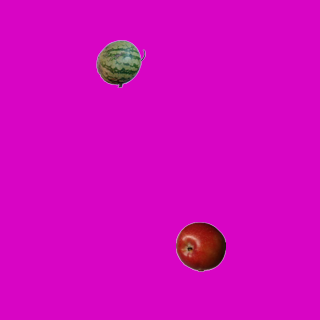Apple Braeburn: (175, 221, 225, 271)
Watermelon: (95, 38, 145, 88)
